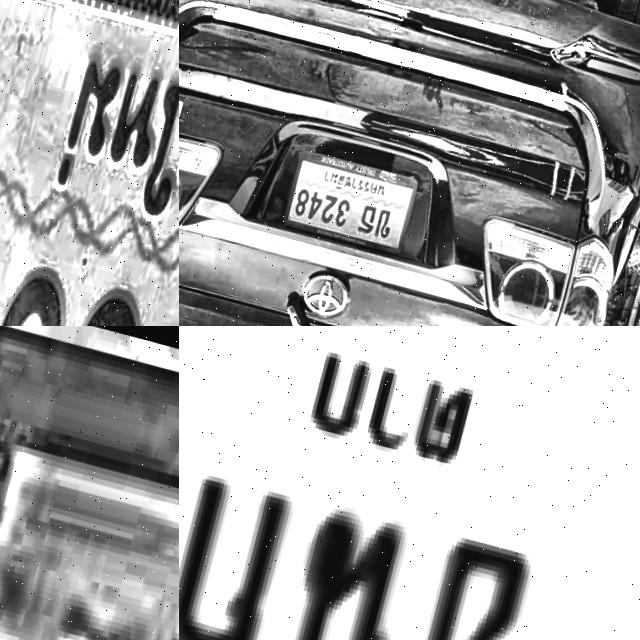license-plate: (179, 326, 640, 640), (0, 0, 179, 326), (0, 326, 179, 640), (281, 140, 423, 257)
